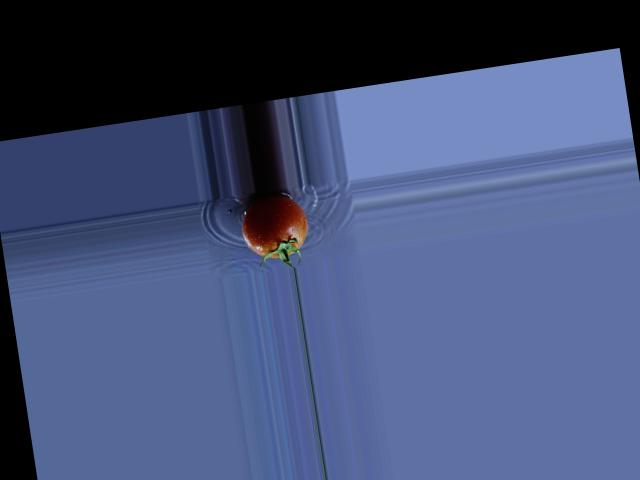tomato: (238, 189, 311, 261)
